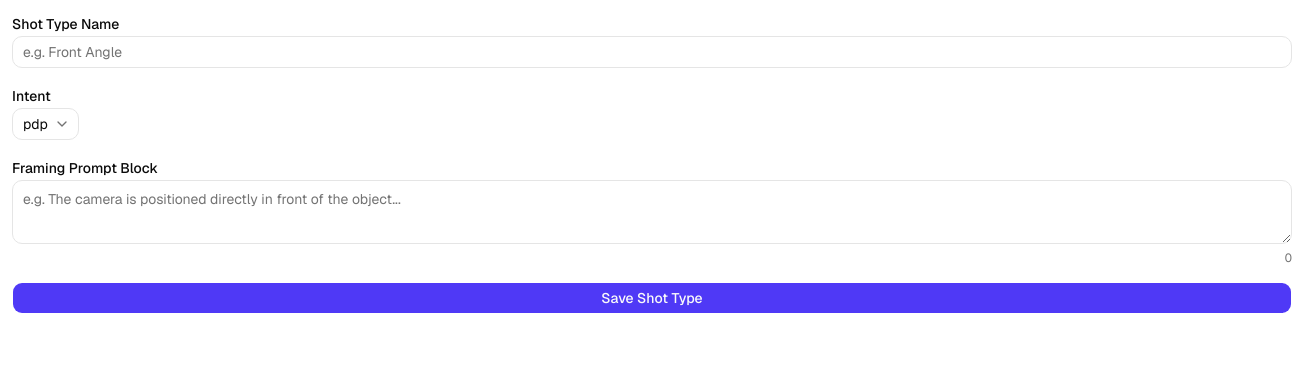
Test case: ShotTypeForm › shows validation errors for empty required fields
The image size is (1304, 384).
What coordinates should you click on to do the following:
click the button "Save Shot Type"
I would click on:
 (652, 298)
Its box is [12,282,1292,314].
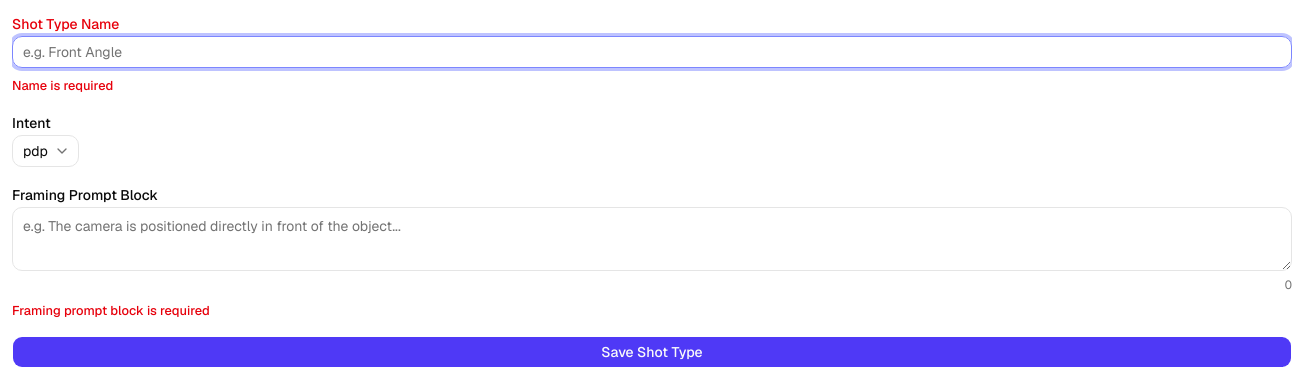
Result: the text "Name is required" is shown at [12,77,113,94]
Result: the text "Framing prompt block is required" is shown at [12,302,210,319]
